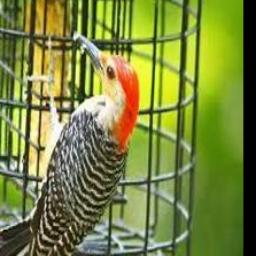Woodpecker: (0, 30, 140, 256)
